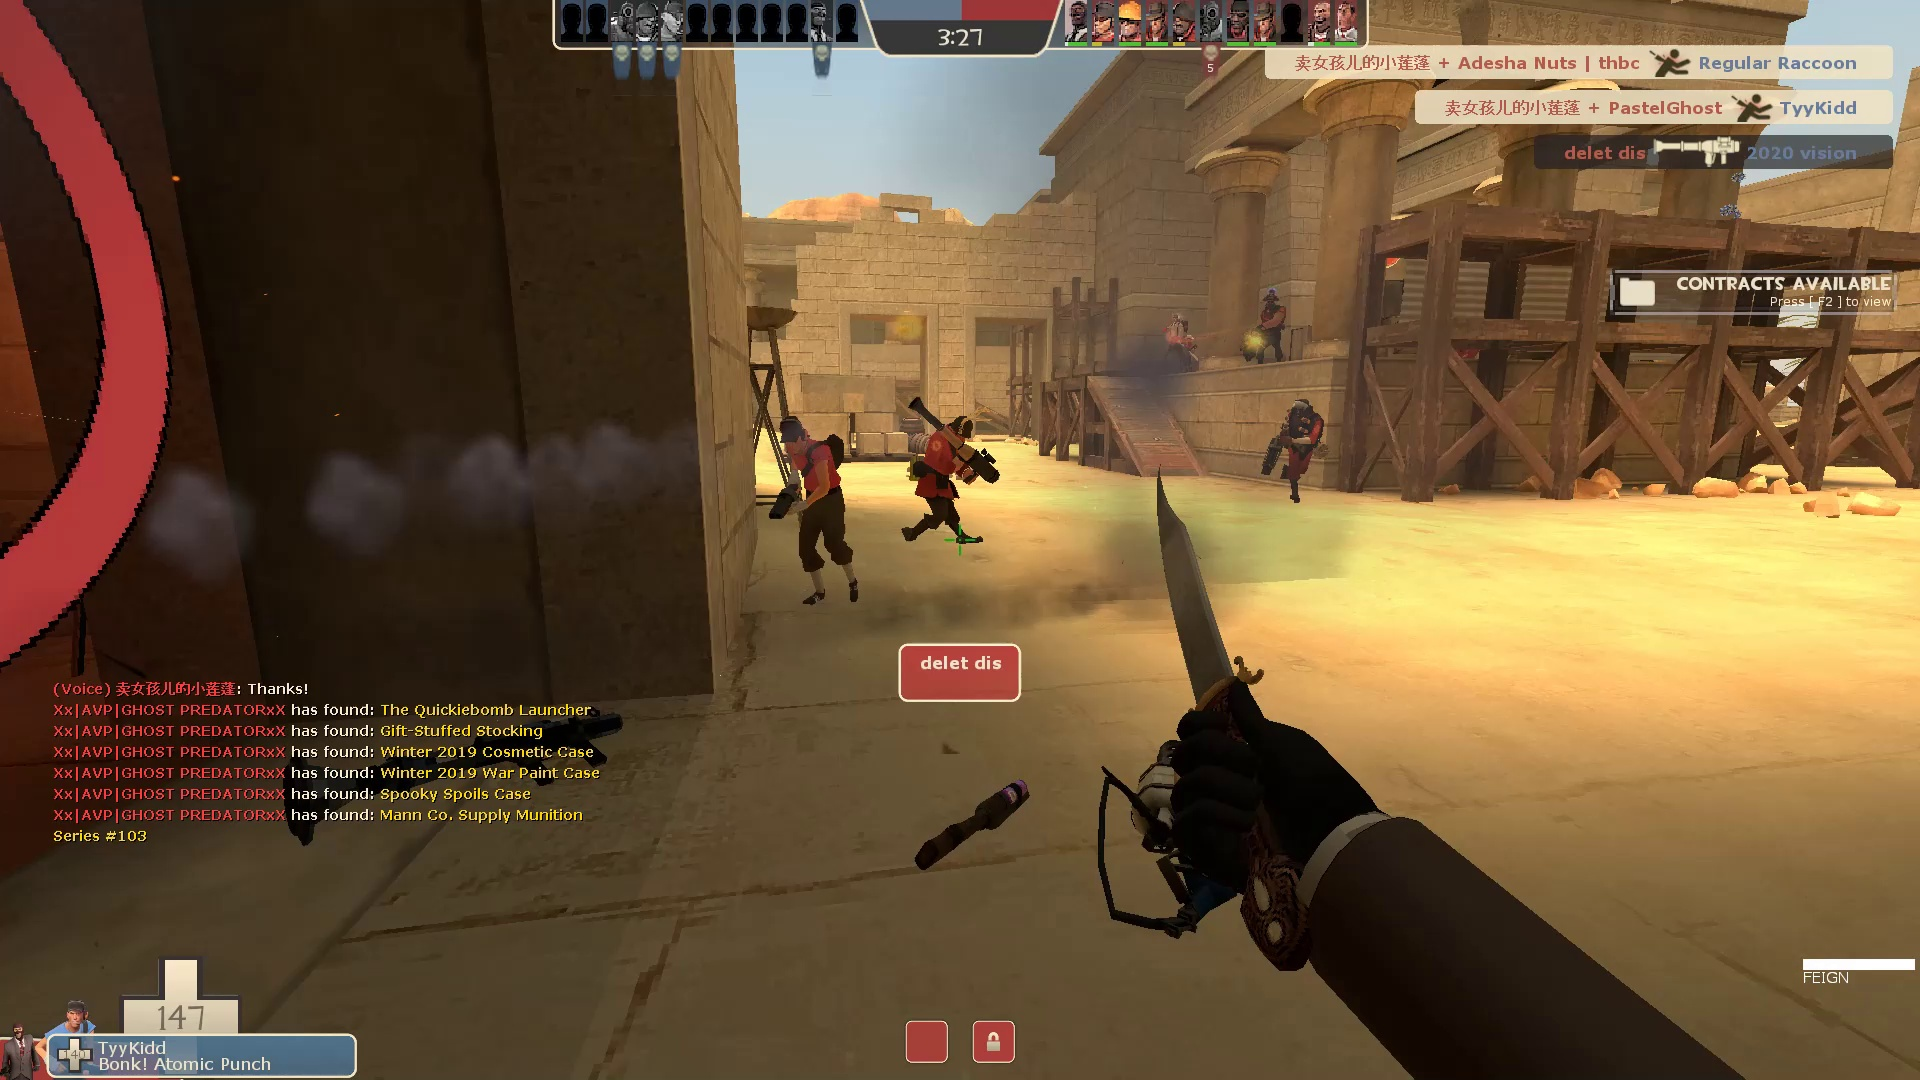red_demo: (1251, 393, 1341, 516)
red_heavy: (1237, 286, 1298, 371)
red_medic: (1154, 301, 1204, 384)
red_scout: (766, 407, 869, 618)
red_soldier: (893, 396, 1004, 558)
